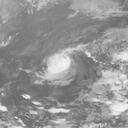cyclone: (45, 52, 73, 78)
